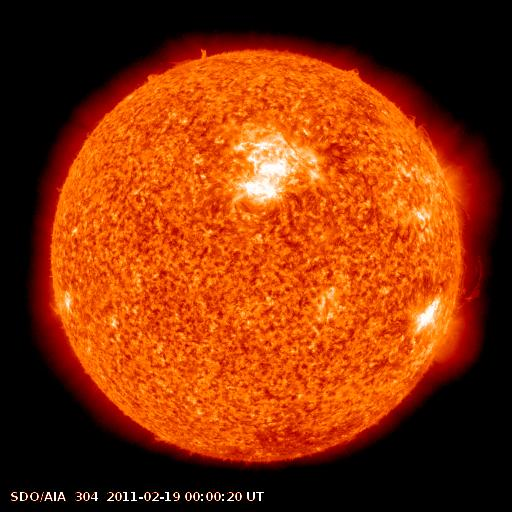prominence: (135, 42, 222, 90), (445, 244, 498, 307)
